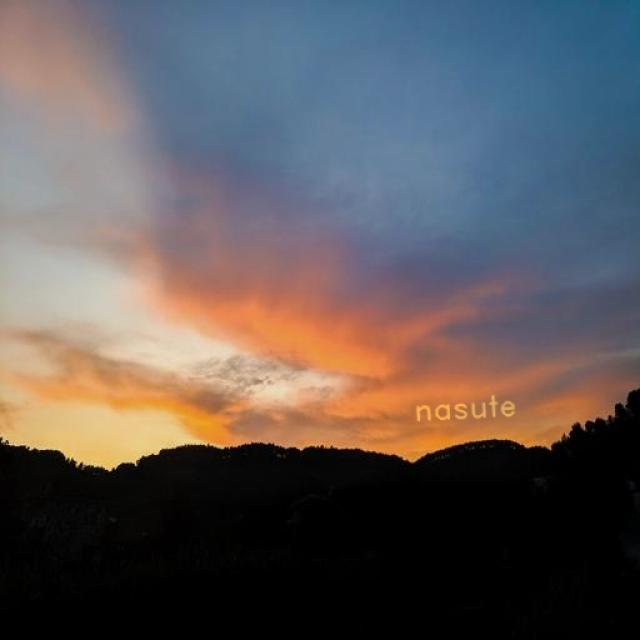watermark: (406, 392, 516, 425)
